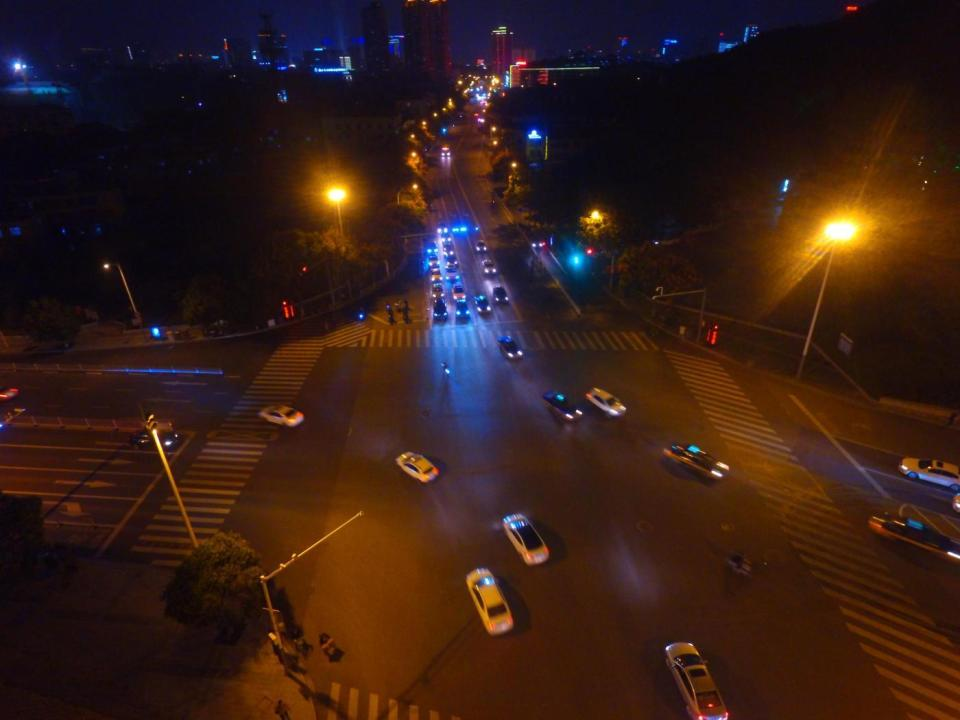car: (867, 510, 960, 574), (664, 640, 730, 720), (465, 568, 514, 636), (502, 514, 549, 566), (662, 444, 729, 477), (899, 456, 958, 490), (585, 388, 627, 420), (540, 390, 580, 421), (396, 451, 436, 482), (131, 426, 178, 450), (258, 404, 303, 429), (497, 335, 522, 361), (474, 296, 491, 316), (454, 300, 471, 319), (491, 287, 507, 305), (435, 298, 447, 320), (482, 258, 496, 276), (444, 264, 458, 282), (452, 284, 465, 303), (432, 283, 445, 301), (442, 243, 455, 260), (431, 268, 444, 284), (474, 238, 487, 253), (426, 243, 439, 258), (428, 254, 440, 270), (440, 144, 451, 158), (441, 233, 452, 245), (437, 224, 446, 236)
